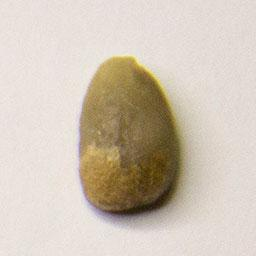longberry: (73, 52, 185, 216)
